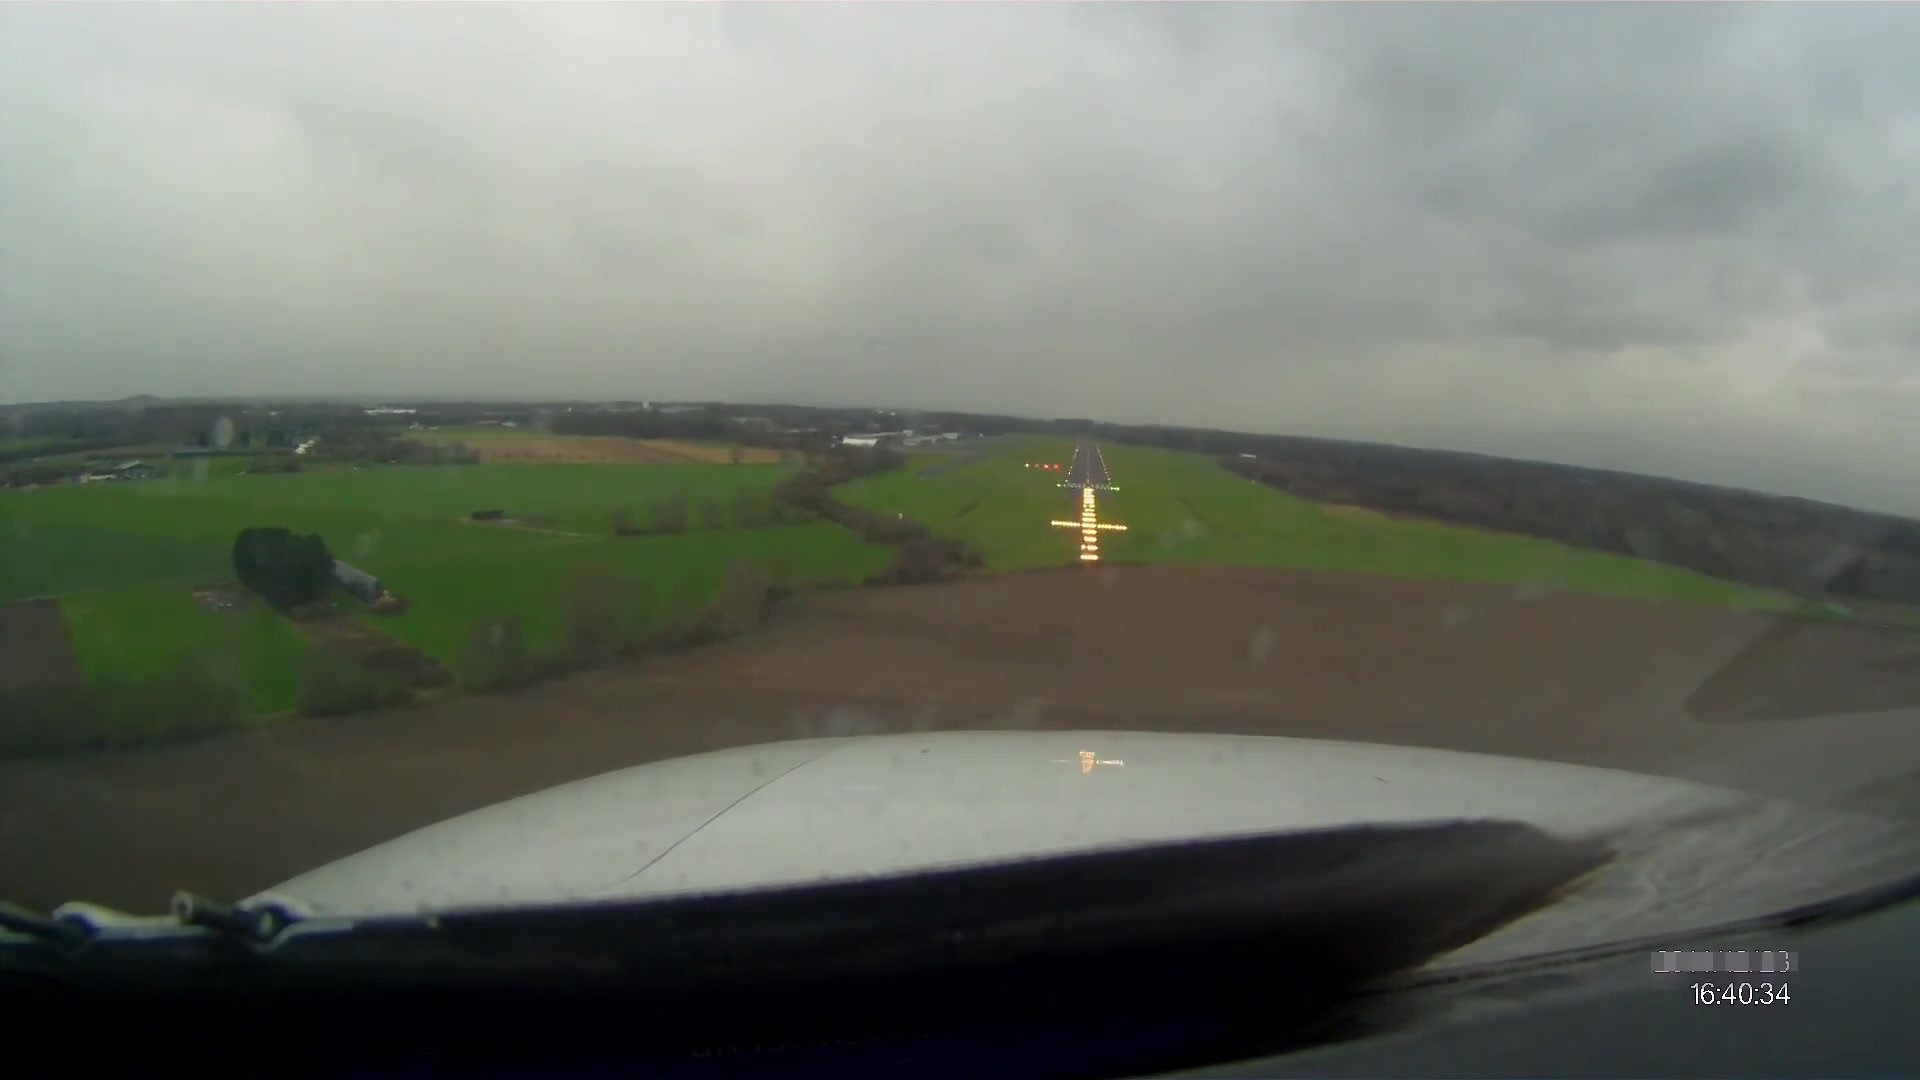runway: (1065, 440, 1116, 493)
